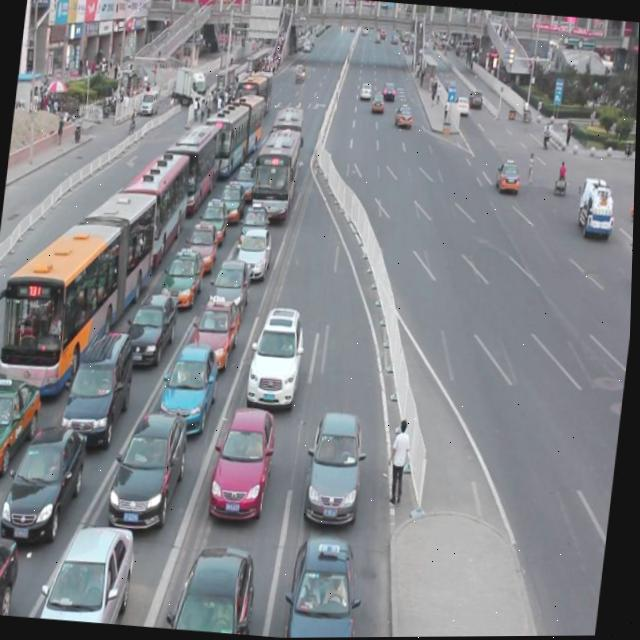bus: (573, 176, 618, 240)
car: (2, 423, 91, 542), (110, 413, 192, 533), (43, 523, 139, 625), (285, 533, 370, 638), (63, 330, 137, 448), (169, 544, 261, 635), (210, 407, 279, 520), (303, 413, 371, 524), (247, 307, 309, 409), (161, 344, 222, 435), (0, 373, 43, 478), (127, 292, 181, 368), (192, 297, 243, 371), (209, 258, 253, 324), (162, 247, 207, 308), (235, 230, 274, 279), (0, 536, 23, 616), (186, 223, 221, 270), (198, 196, 230, 242), (240, 201, 271, 245), (216, 179, 247, 222), (232, 161, 258, 202), (494, 158, 521, 193), (394, 104, 413, 127), (452, 96, 469, 115), (628, 183, 636, 221), (370, 92, 385, 111)
van: (0, 183, 160, 403), (110, 147, 194, 271), (199, 90, 266, 179), (160, 122, 222, 214), (250, 128, 301, 219), (267, 105, 307, 177), (235, 69, 275, 119)
